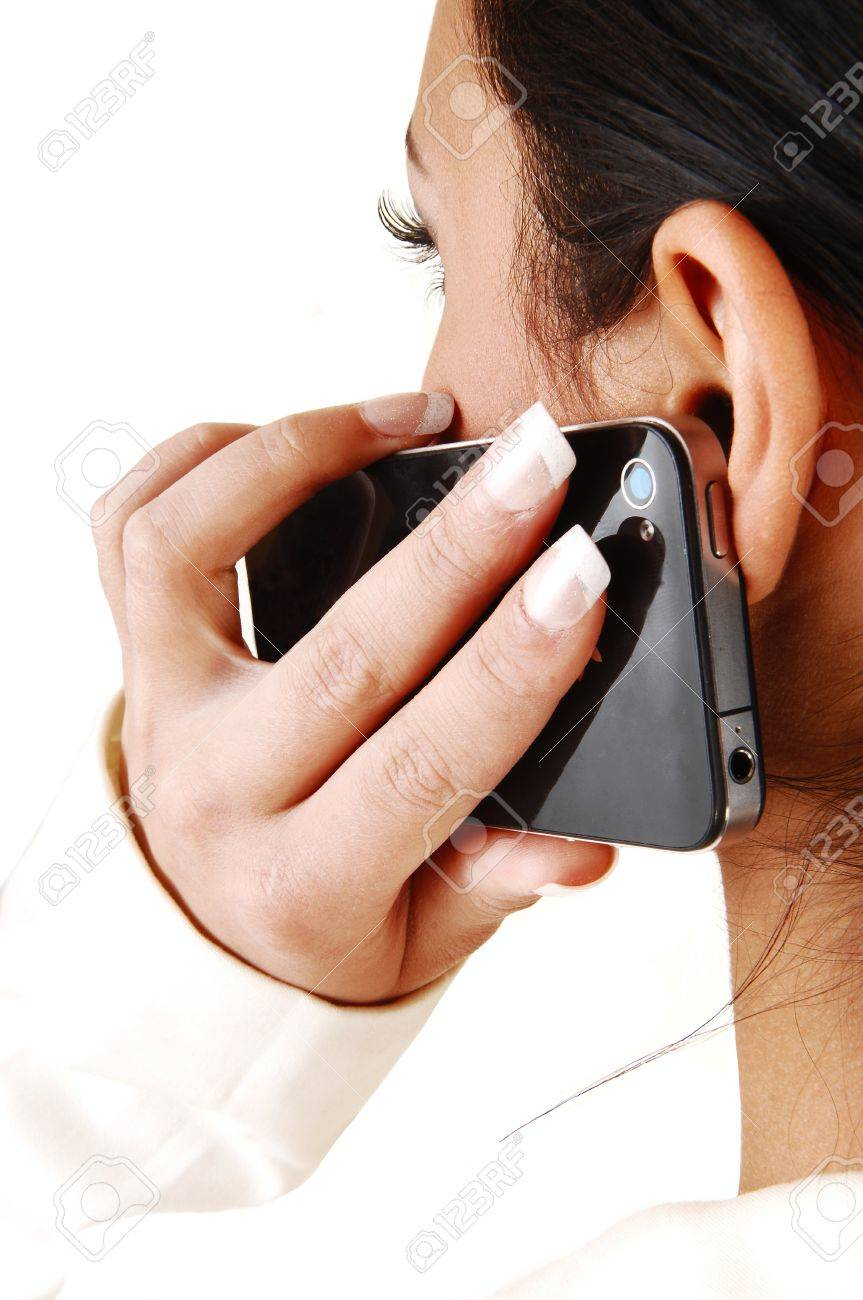phone: (246, 413, 765, 847)
